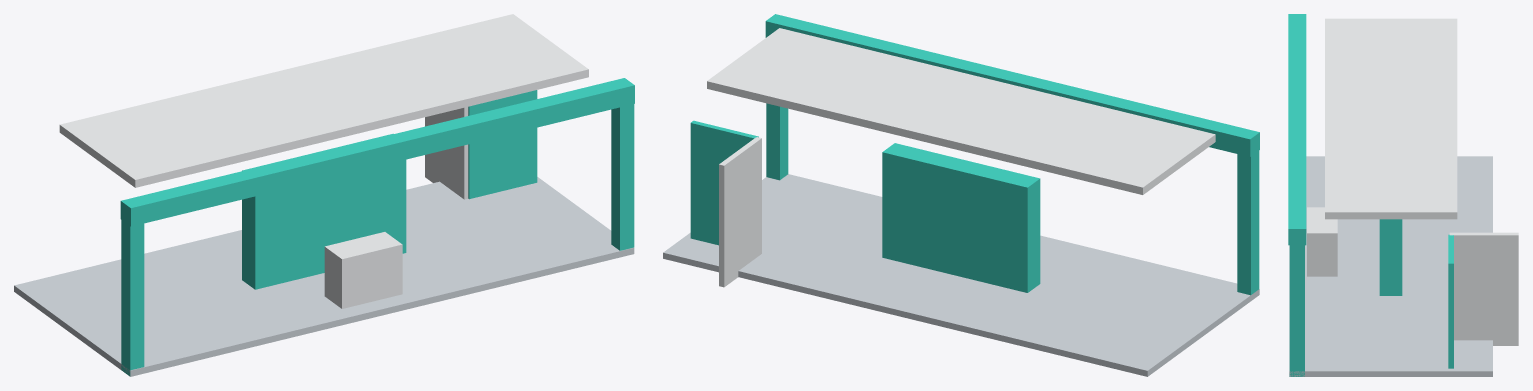
The picture shows the model from 3 angles, left to right: view 1: azimuth 30°, elevation 25°; view 2: azimuth 150°, elevation 25°; view 3: azimuth 270°, elevation 25°; orthographic projection. The views are drawn at different scales.
Visible parts, largest first — view 1: Exhibition Booth Concept; view 2: Exhibition Booth Concept; view 3: Exhibition Booth Concept.
Boxes of the visible parts, left/top/right/bottom form: Exhibition Booth Concept: left=14, top=14, right=634, bottom=376; Exhibition Booth Concept: left=663, top=14, right=1259, bottom=376; Exhibition Booth Concept: left=1288, top=14, right=1518, bottom=376.
Size of the model in its own units: 10 by 3.34 by 4.52.
